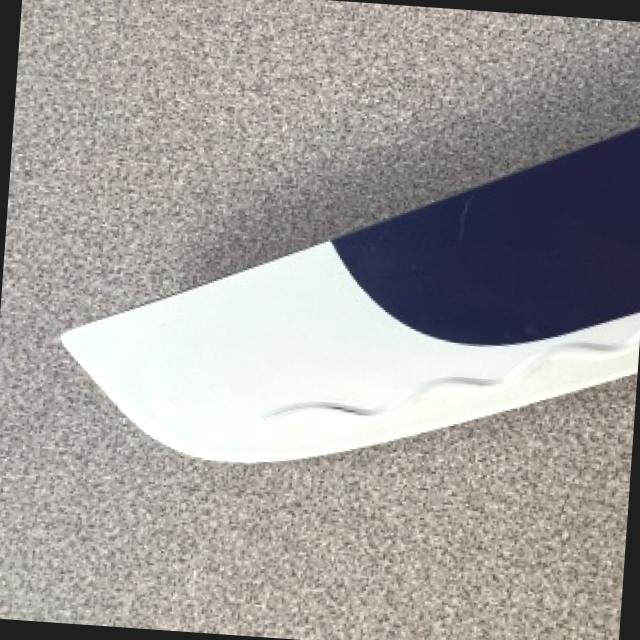healthy: (64, 124, 640, 461)
